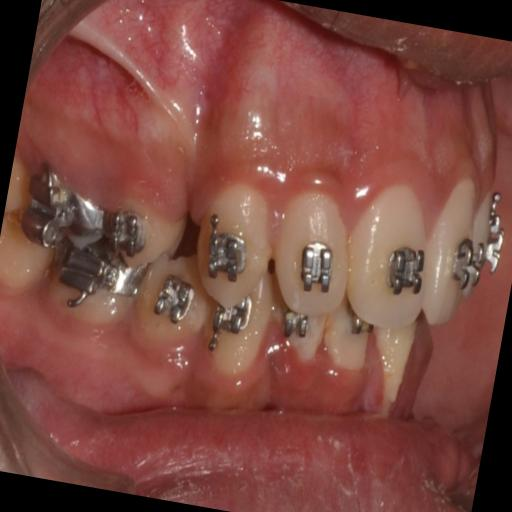correct_brace: (92, 164, 194, 271), (378, 237, 434, 320), (196, 218, 252, 288), (288, 236, 340, 304), (442, 230, 488, 292)
incorrect_brace: (274, 182, 360, 307), (98, 203, 154, 258)
